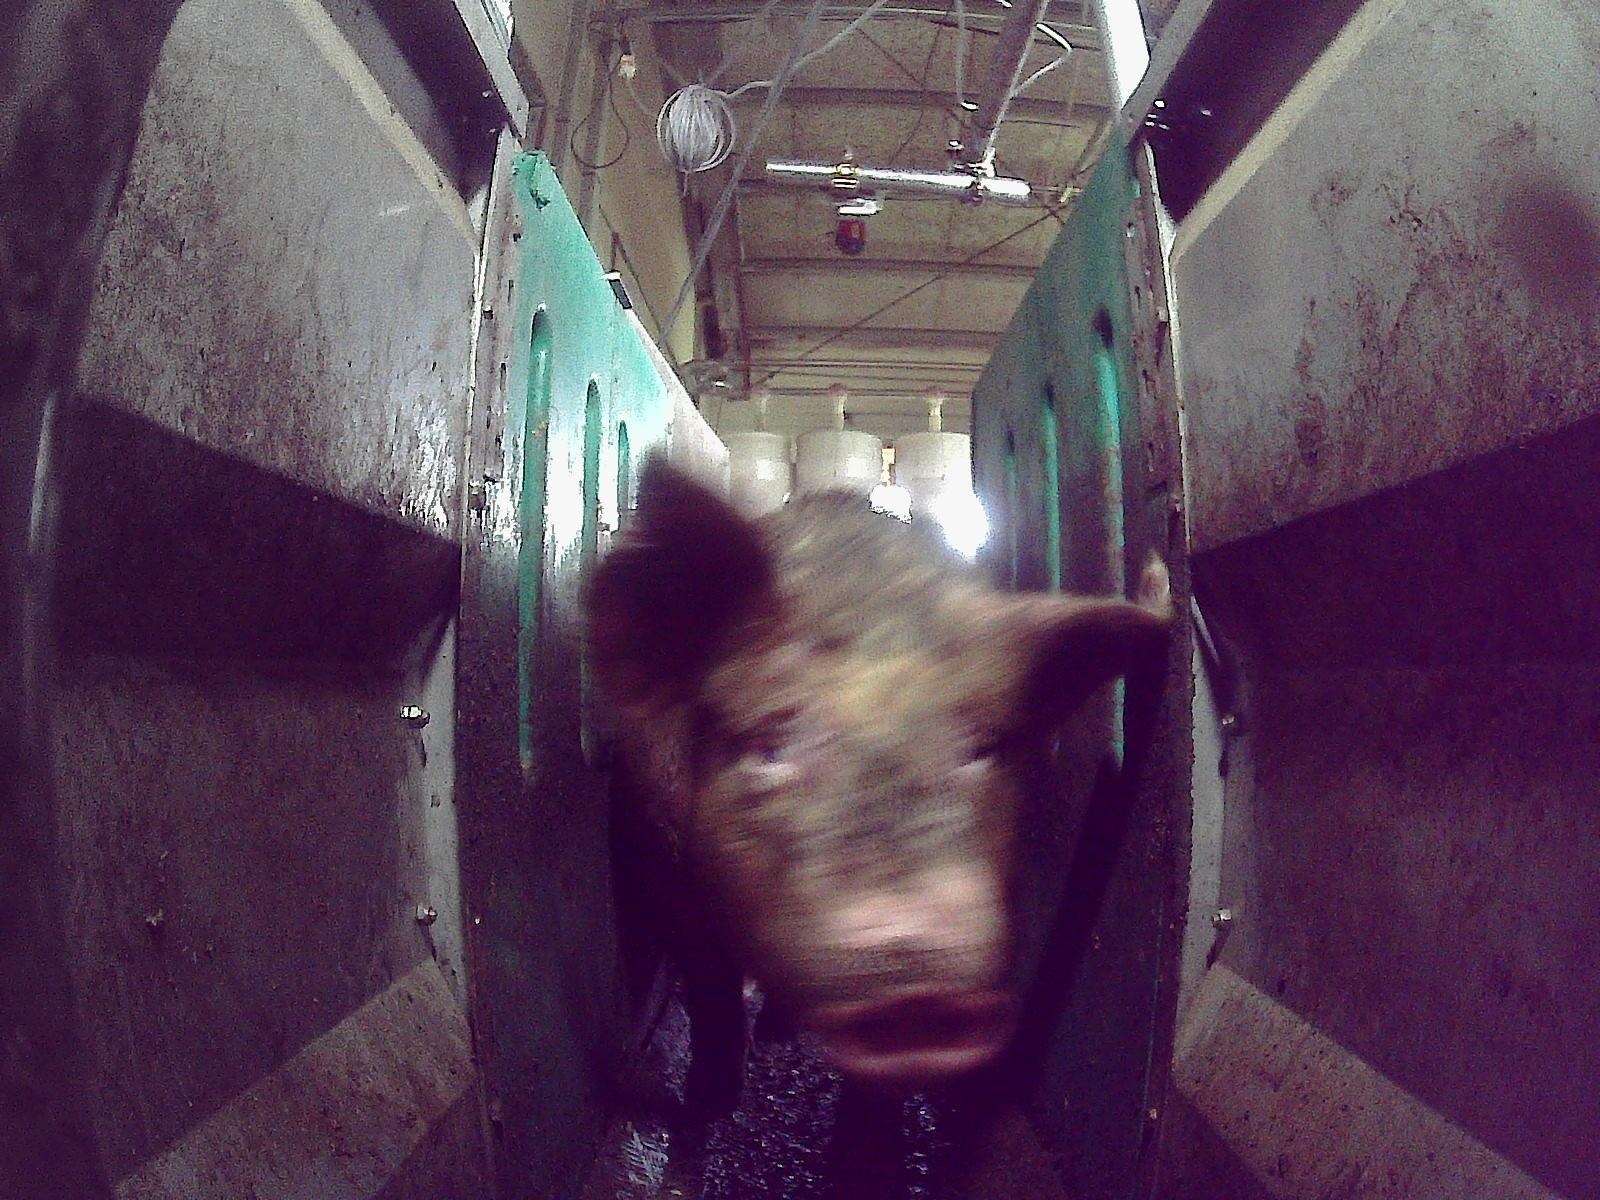Face: (683, 577, 1038, 1076)
